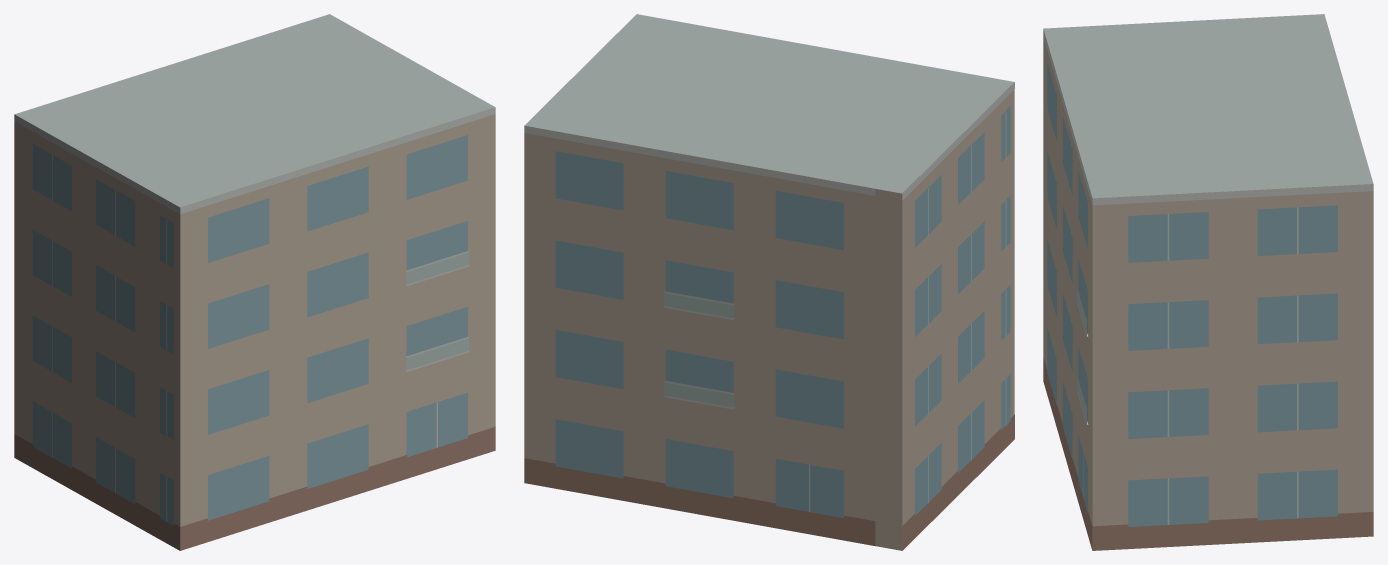
Rendered from survey-upis-32933050.glb.
3 renders of one model, left to right at view 1: azimuth 30°, elevation 25°; view 2: azimuth 150°, elevation 25°; view 3: azimuth 270°, elevation 25°, orthographic. The views are drawn at different scales.
Parts seen in each view (by area): view 1: survey-upis-32933050.tmp; view 2: survey-upis-32933050.tmp; view 3: survey-upis-32933050.tmp.
Boxes of the visible parts, x1,y1,x2,y2 form: survey-upis-32933050.tmp: (14, 14, 495, 550); survey-upis-32933050.tmp: (524, 14, 1014, 550); survey-upis-32933050.tmp: (1043, 14, 1373, 550).
Size of the model in its own units: 13.7 by 12.2 by 10.37.
